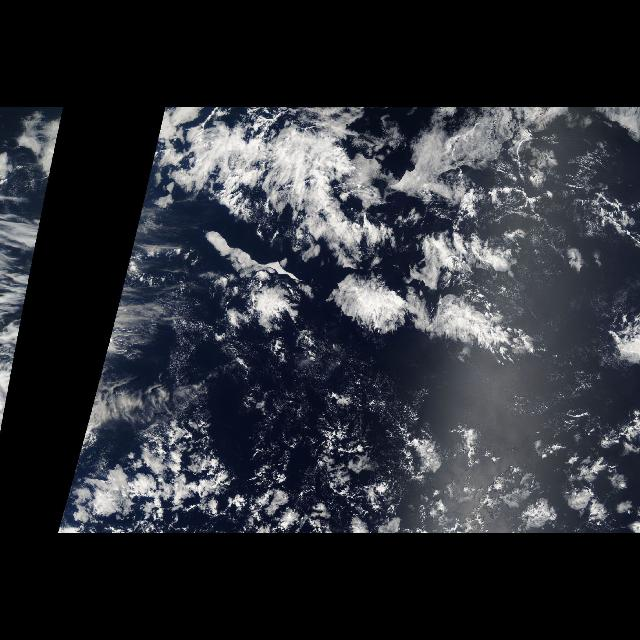Fish: (173, 120, 592, 384)
Flower: (235, 401, 635, 534)
